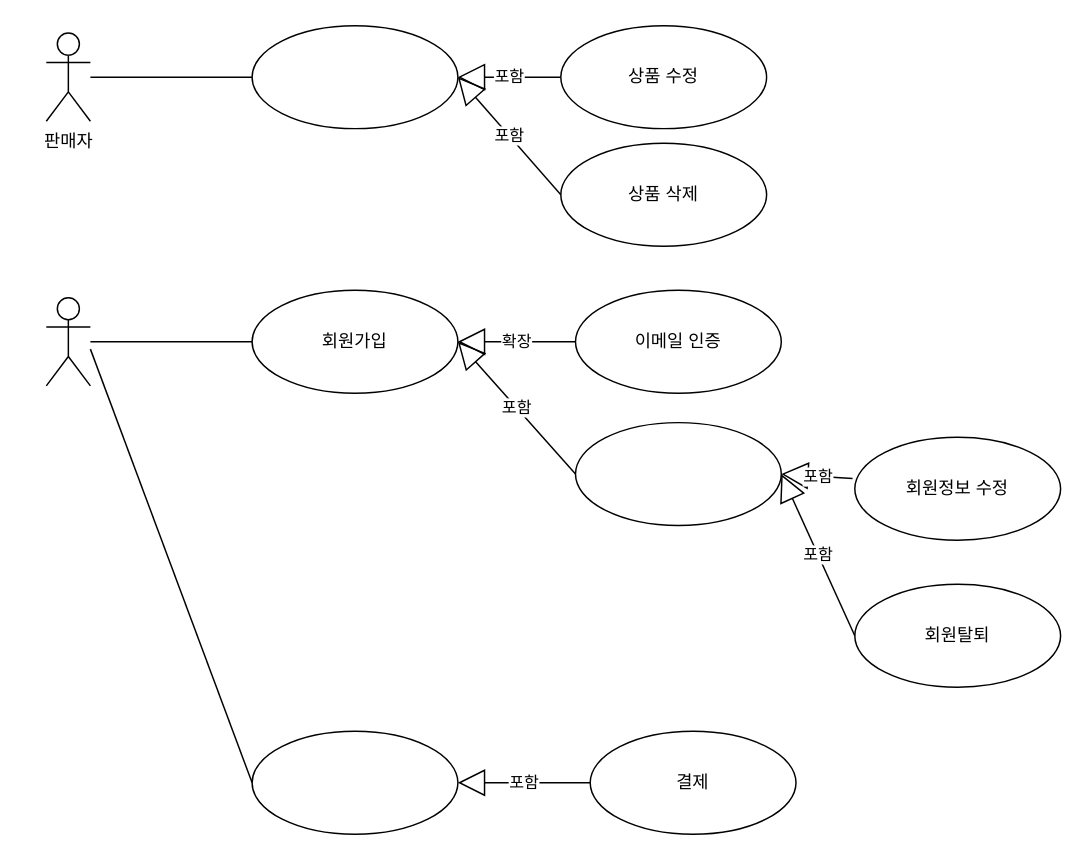
The diagram is 1086 pixels wide and 860 high, and some of its shapes have lost their labels. Each missing label, with the box of its shape:
로그인: (574, 421, 781, 526)
상품 등록: (251, 24, 458, 129)
일반 사용자: (45, 296, 90, 386)
주문: (251, 730, 458, 834)
